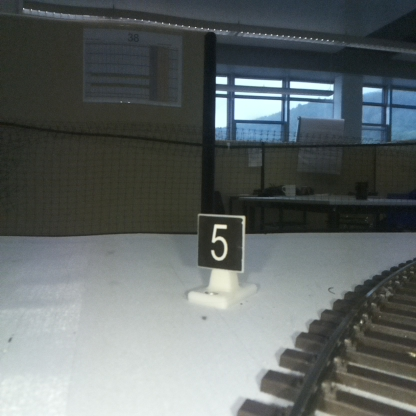black-stop-5: (197, 215, 243, 303)
